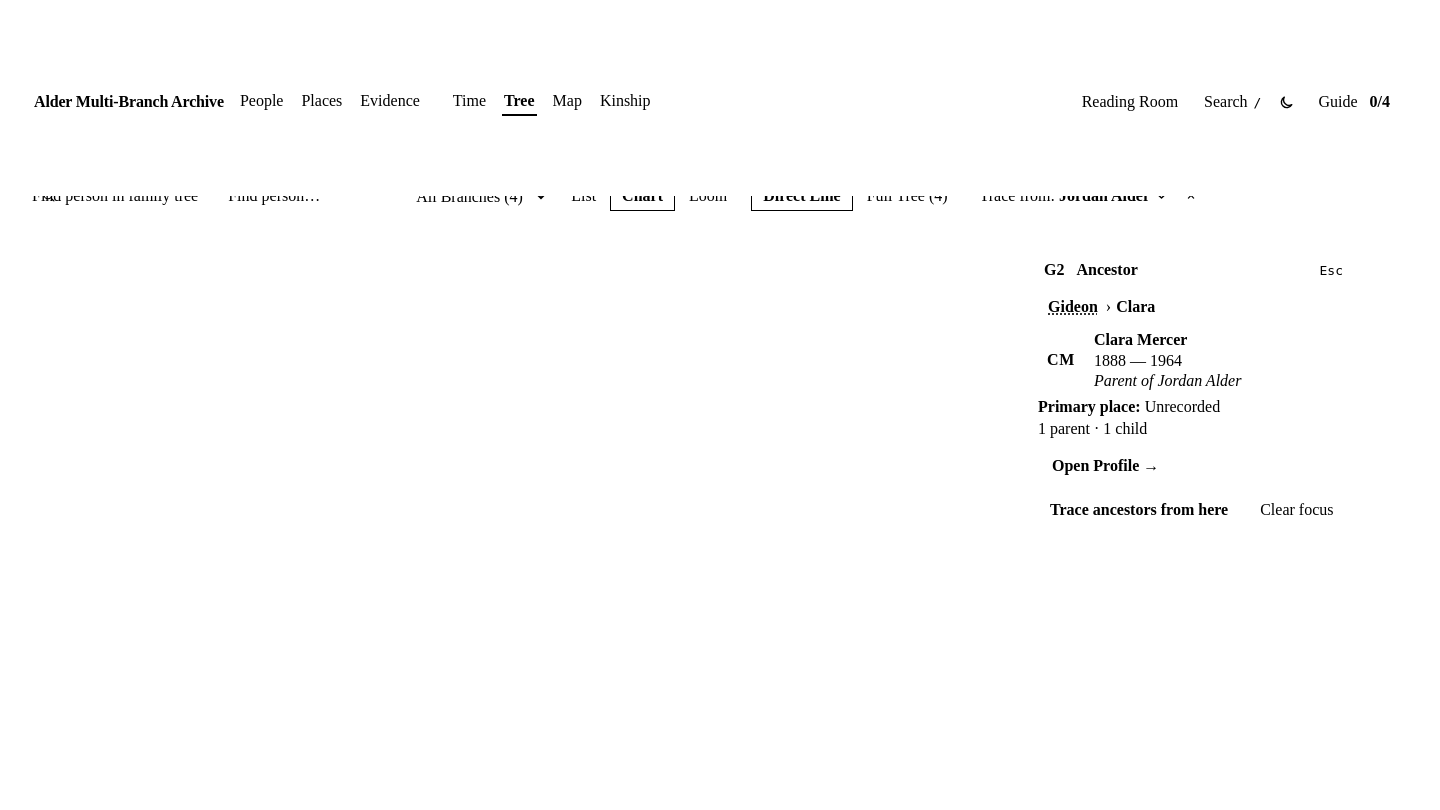
Test: TreePage canvas gestures, SourceReaderDrawer actions, and ArchivalMarkdown behavioral flows › selects and resets dynamic focal person anchor via TreeAnchorPicker, TreeFocusDrawer, branch sync, minimap, and Mobile Roll
Earlier steps of the test are not shown.
Later steps or results of the test are not shown.
(page scrolled)
Click the button "Trace ancestors from here": click(1139, 510) [1038,492,1240,528]
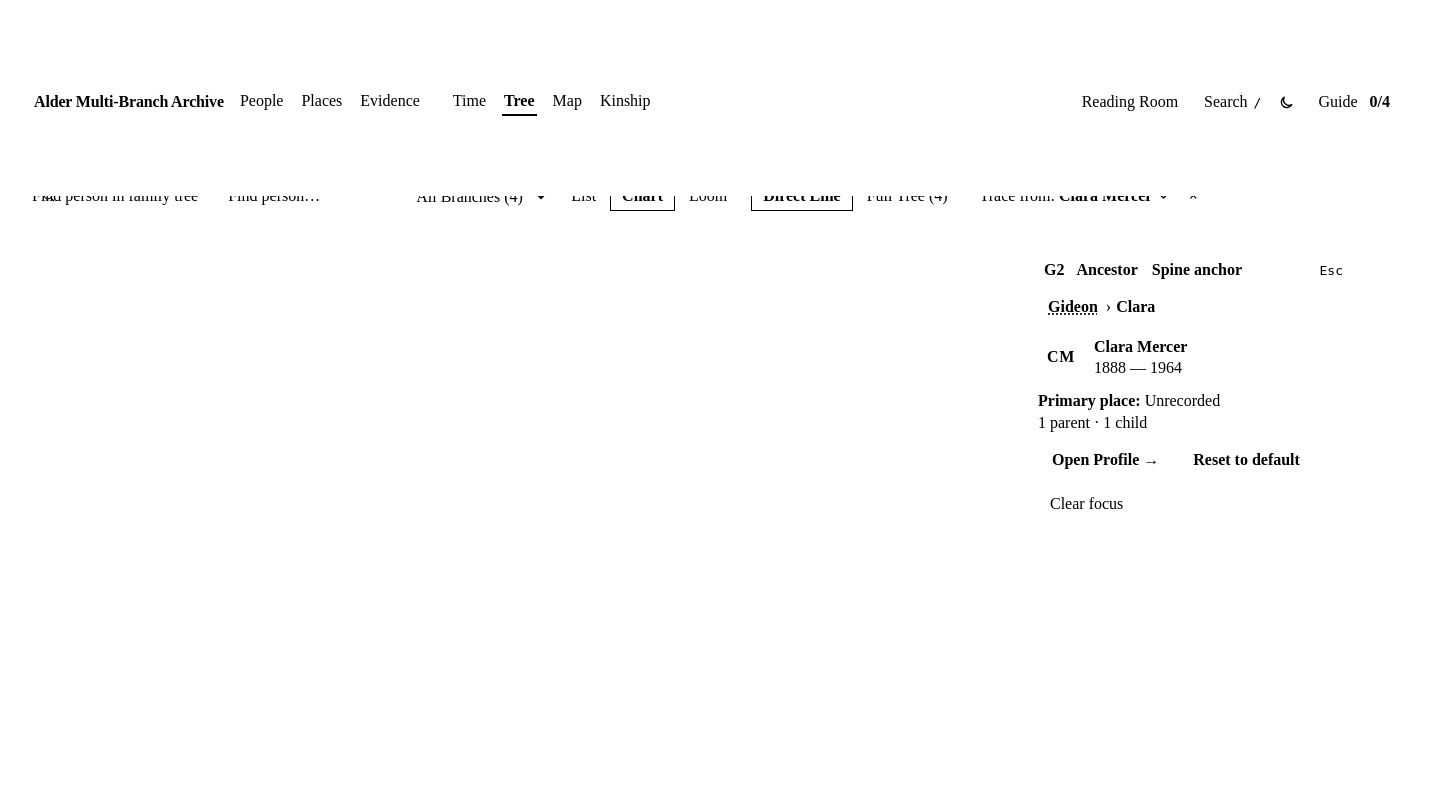
Check: the button "Reset to default" is shown
Check: the text "Spine anchor" is shown, box [1152,261,1242,278]
Click the button "Reset to default": click(1247, 460) [1181,442,1312,478]
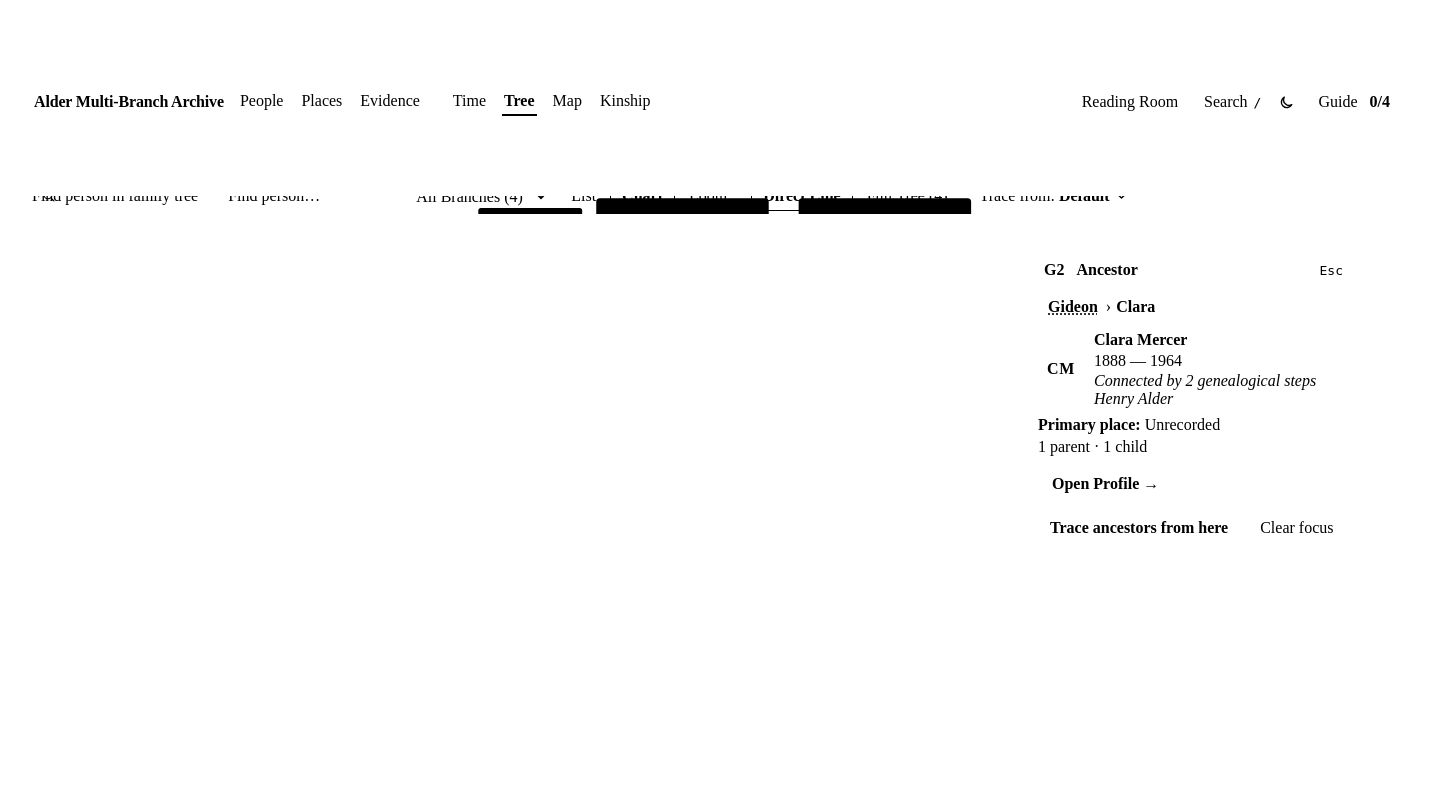
Click the button "Trace from: Default": click(1053, 196) [970,182,1137,210]
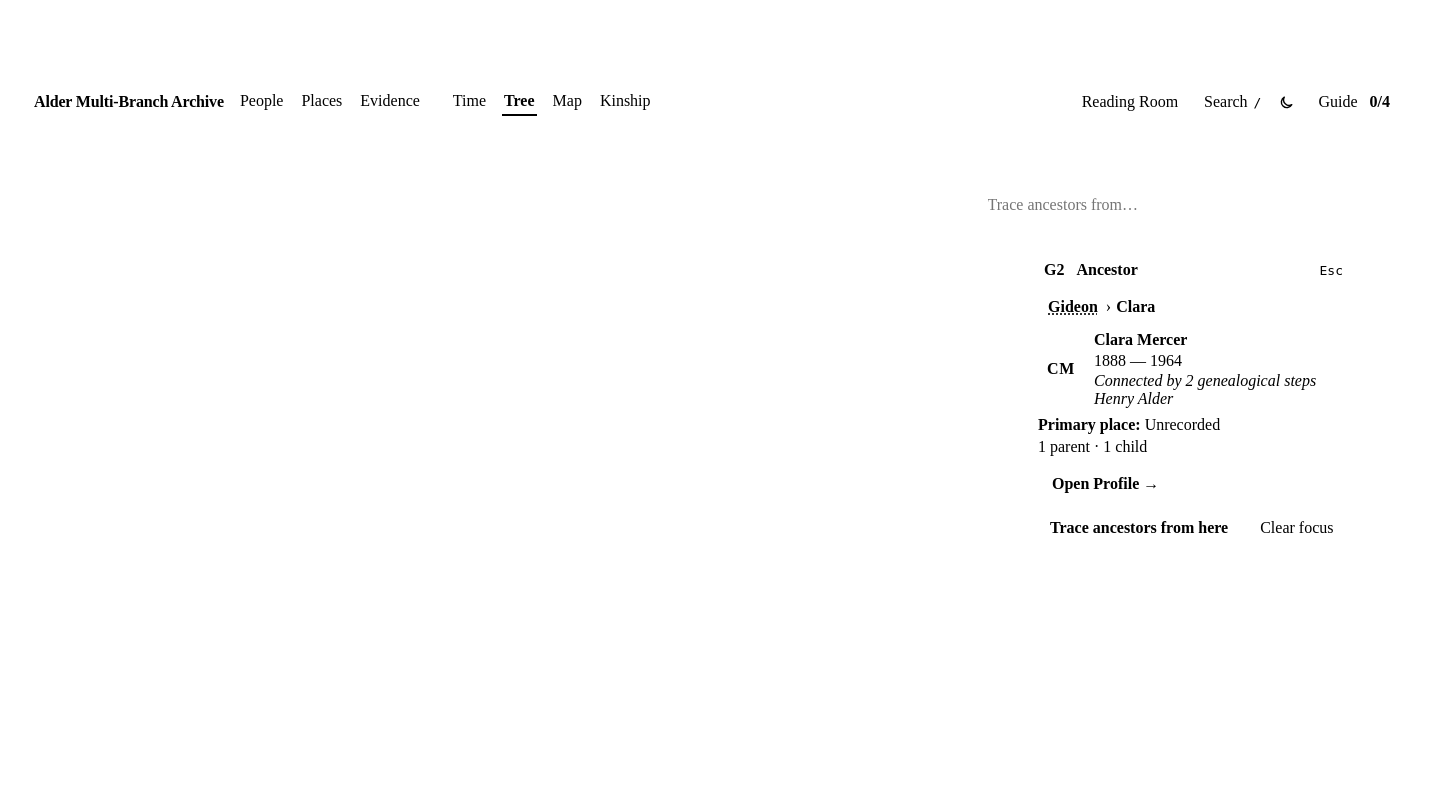
Check: the dropdown with placeholder "Trace ancestors from…" is shown, box [978,196,1274,214]
